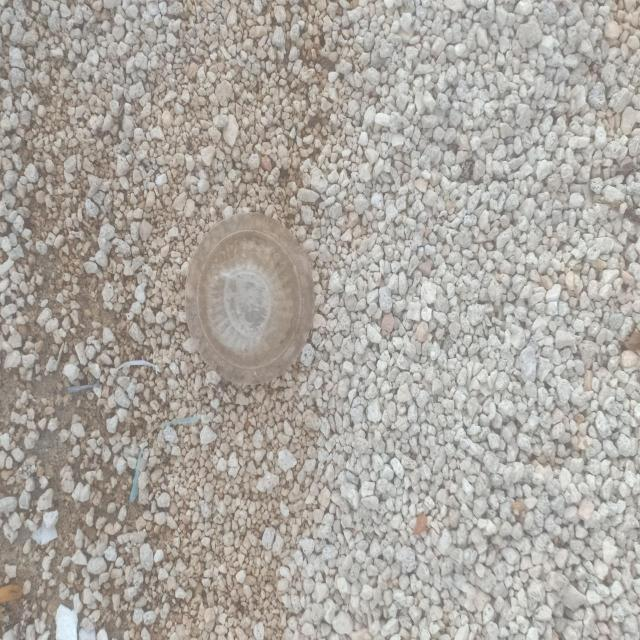plastic_waste: (186, 210, 320, 388)
